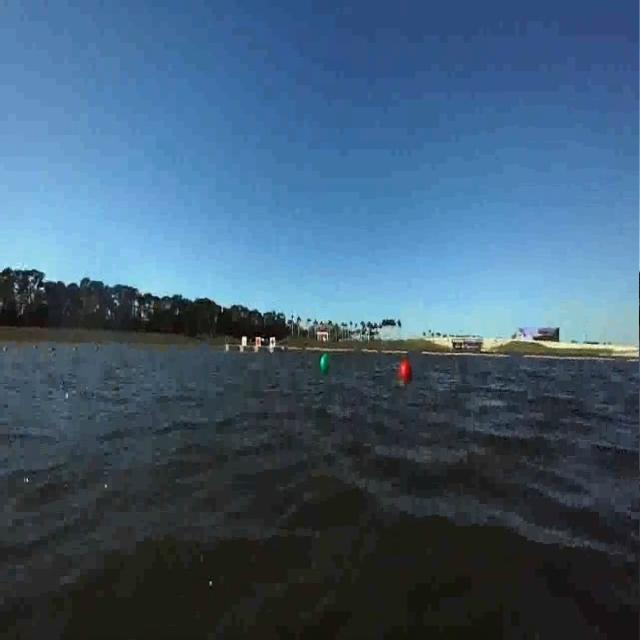green-buoy: (322, 353, 332, 373)
red-buoy: (400, 358, 416, 382)
